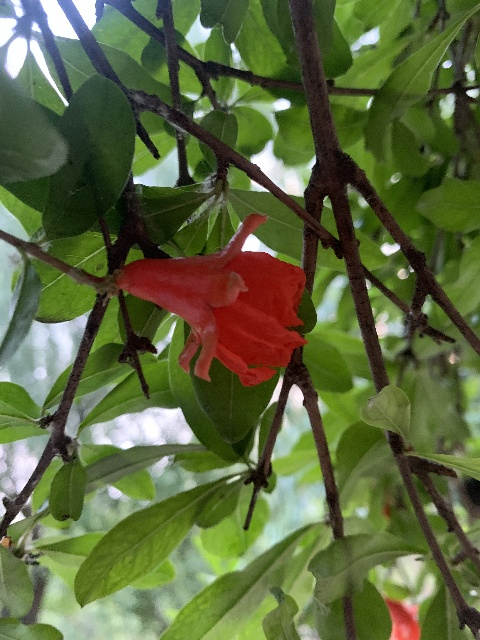flower: (117, 214, 309, 385)
